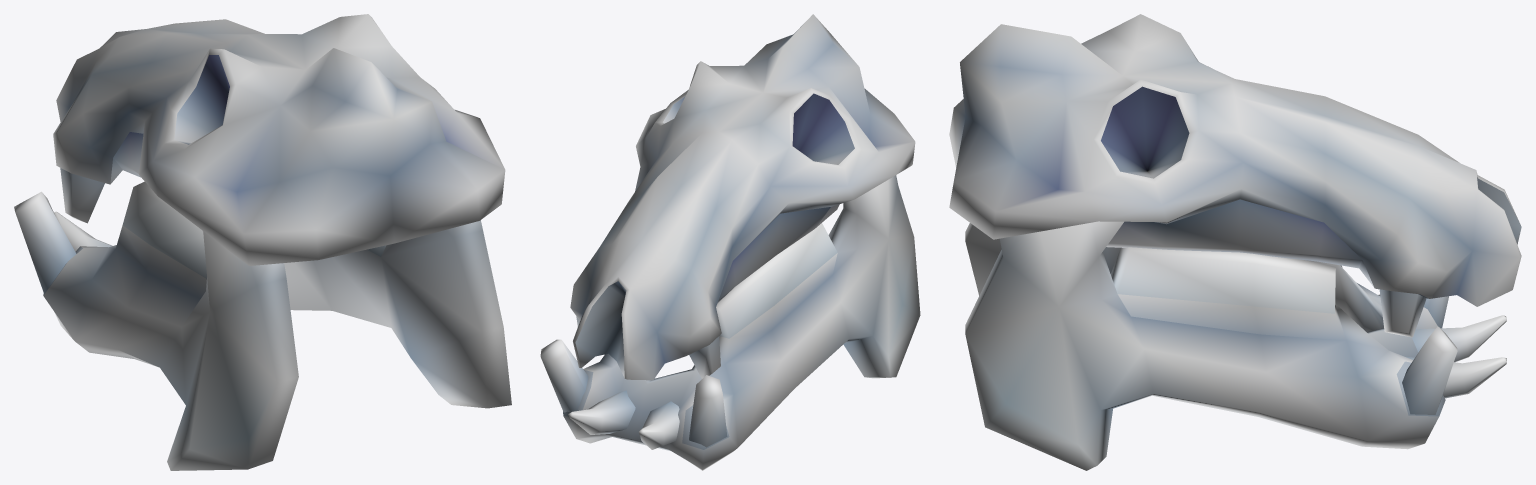
The model's file is Head.gltf.
3 renders of one model, left to right at view 1: azimuth 30°, elevation 25°; view 2: azimuth 150°, elevation 25°; view 3: azimuth 270°, elevation 25°, orthographic. The views are drawn at different scales.
Visible parts, largest first — view 1: HeadMesh; view 2: HeadMesh; view 3: HeadMesh.
Part boxes in pixels (x1=…): HeadMesh: x1=14, y1=14, x2=511, y2=470; HeadMesh: x1=540, y1=14, x2=920, y2=470; HeadMesh: x1=949, y1=14, x2=1521, y2=470.
Bounding box in the file's own units: 1.51 × 1.88 × 2.49.
